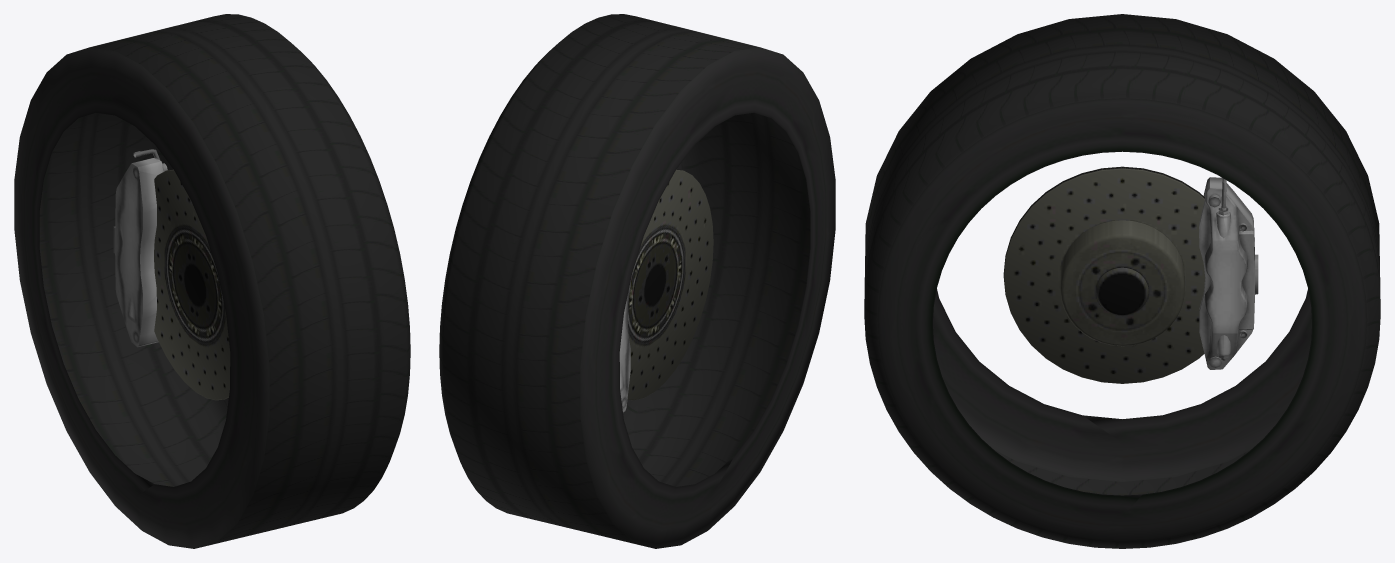
File: 18inches.fbx
3 renders of one model, left to right at view 1: azimuth 30°, elevation 25°; view 2: azimuth 150°, elevation 25°; view 3: azimuth 270°, elevation 25°, orthographic.
Visible parts, largest first — view 1: 18inches, disk, brake_disk; view 2: 18inches, disk, brake_disk; view 3: 18inches, disk, brake_disk.
Part boxes in pixels (bbox=[...]): 18inches: bbox=[14, 14, 410, 548]; disk: bbox=[154, 169, 230, 400]; brake_disk: bbox=[113, 149, 167, 347]; 18inches: bbox=[439, 14, 835, 548]; disk: bbox=[627, 169, 713, 400]; brake_disk: bbox=[619, 282, 630, 412]; 18inches: bbox=[864, 14, 1380, 548]; disk: bbox=[1003, 166, 1205, 383]; brake_disk: bbox=[1199, 177, 1258, 369].
Size of the model in its own units: 0.2248 by 0.6198 by 0.6198.
